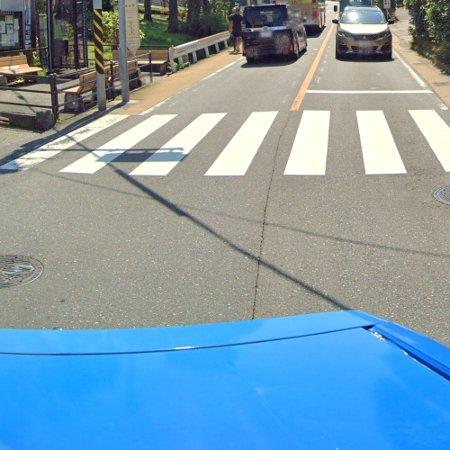crosswalks: (0, 108, 450, 177)
